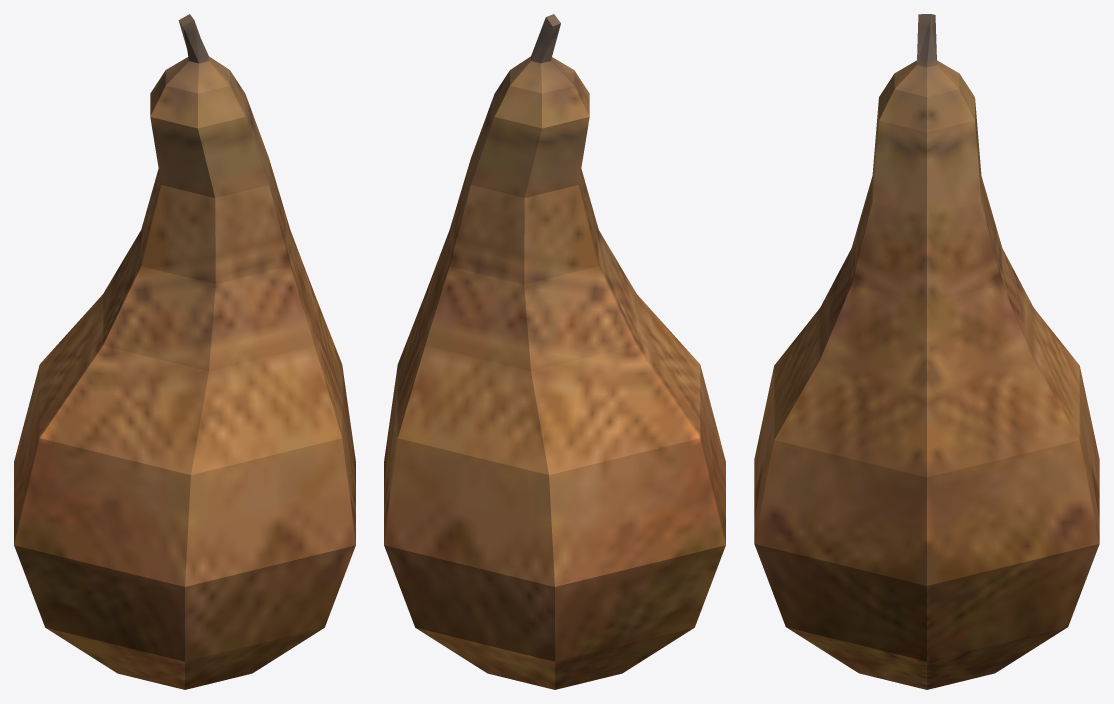
Rendered from GuanZi_3.fbx.
The picture shows the model from 3 angles, left to right: view 1: azimuth 30°, elevation 25°; view 2: azimuth 150°, elevation 25°; view 3: azimuth 270°, elevation 25°; orthographic projection.
Visible parts, largest first — view 1: 3D_GuanZi4.mo; view 2: 3D_GuanZi4.mo; view 3: 3D_GuanZi4.mo.
Part boxes in pixels (left/top/right/bottom): 3D_GuanZi4.mo: left=14, top=14, right=355, bottom=689; 3D_GuanZi4.mo: left=384, top=14, right=725, bottom=689; 3D_GuanZi4.mo: left=754, top=14, right=1099, bottom=689.
Bounding box in the file's own units: 5.88 × 10.51 × 5.09.
Materials: 1 (1 with a texture image).
